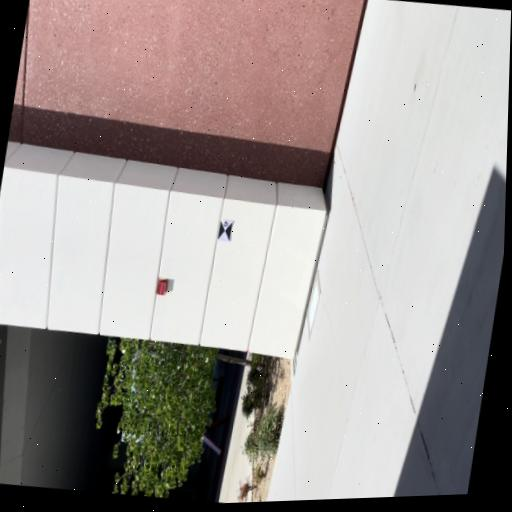target9: (218, 219, 233, 242)
